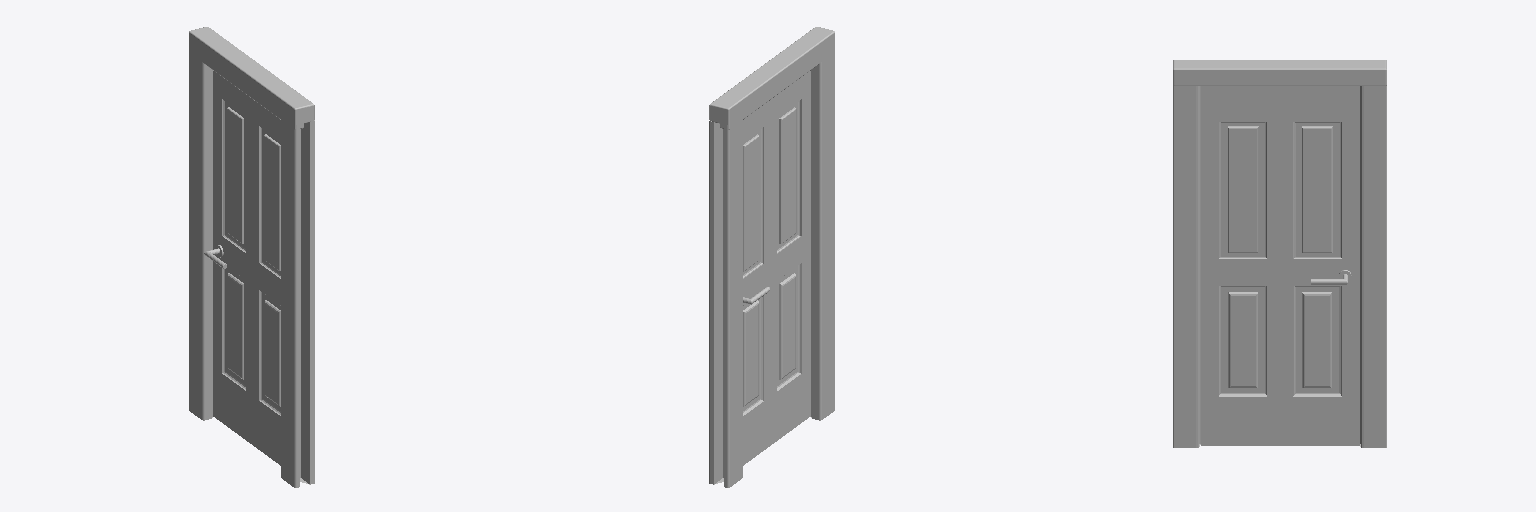
3 renders of one model, left to right at view 1: azimuth 30°, elevation 25°; view 2: azimuth 150°, elevation 25°; view 3: azimuth 270°, elevation 25°, orthographic.
Parts seen in each view (by area): view 1: Door_Cube, frame.001_Plane.002, frame_Plane.001, Plane_Plane.003; view 2: Door_Cube, frame_Plane.001, frame.001_Plane.002, Plane_Plane.003; view 3: Door_Cube, frame.001_Plane.002, frame_Plane.001, Plane_Plane.003.
Part boxes in pixels (left/top/right/bottom): Door_Cube: left=213, top=71, right=280, bottom=465; frame.001_Plane.002: left=281, top=116, right=314, bottom=487; frame_Plane.001: left=189, top=49, right=212, bottom=420; Plane_Plane.003: left=189, top=27, right=314, bottom=129; Door_Cube: left=743, top=71, right=810, bottom=465; frame_Plane.001: left=709, top=116, right=742, bottom=487; frame.001_Plane.002: left=811, top=48, right=834, bottom=420; Plane_Plane.003: left=709, top=27, right=834, bottom=129; Door_Cube: left=1201, top=86, right=1359, bottom=445; frame.001_Plane.002: left=1173, top=85, right=1200, bottom=447; frame_Plane.001: left=1360, top=86, right=1386, bottom=447; Plane_Plane.003: left=1173, top=60, right=1386, bottom=85.
Size of the model in its own units: 0.4245 by 4.29 by 2.19.